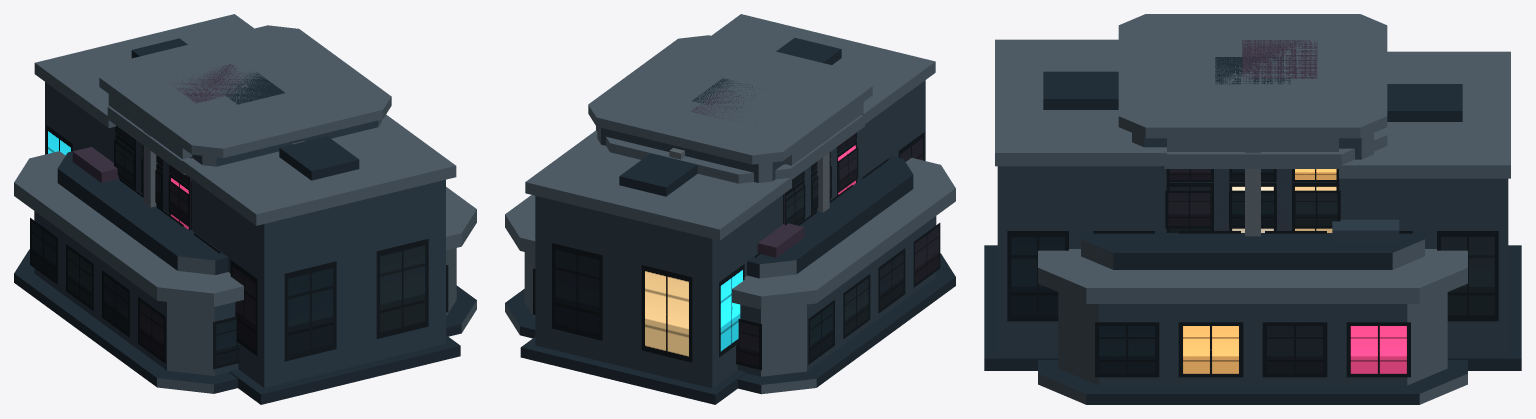
File: cyber-city-original.glb
The picture shows the model from 3 angles, left to right: view 1: azimuth 30°, elevation 25°; view 2: azimuth 150°, elevation 25°; view 3: azimuth 270°, elevation 25°; orthographic projection. The views are drawn at different scales.
Visible parts, largest first — view 1: terrace, podium, tower_walls, slim_walls, corner, midrise_walls, tower_walls.001, midrise_walls.001; view 2: terrace, podium, tower_walls, corner, midrise_walls, tower_walls.001, midrise_walls.001, slim_walls; view 3: terrace, podium, tower_walls, corner, slim_walls, midrise_walls, midrise_walls.001, tower_walls.001.
Boxes of the visible parts, bbox=[...] form: terrace: bbox=[34, 14, 460, 404]; podium: bbox=[14, 147, 476, 393]; tower_walls: bbox=[99, 25, 391, 192]; slim_walls: bbox=[147, 45, 343, 128]; corner: bbox=[107, 64, 248, 226]; midrise_walls: bbox=[115, 119, 381, 229]; tower_walls.001: bbox=[143, 131, 304, 226]; midrise_walls.001: bbox=[115, 134, 189, 230]; terrace: bbox=[520, 14, 935, 404]; podium: bbox=[505, 156, 955, 394]; tower_walls: bbox=[588, 35, 872, 213]; corner: bbox=[596, 89, 864, 225]; midrise_walls: bbox=[597, 127, 856, 224]; tower_walls.001: bbox=[669, 138, 829, 223]; midrise_walls.001: bbox=[784, 141, 856, 225]; slim_walls: bbox=[643, 55, 826, 132]; terrace: bbox=[984, 39, 1521, 370]; podium: bbox=[1038, 219, 1467, 404]; tower_walls: bbox=[1118, 14, 1387, 182]; corner: bbox=[1159, 40, 1387, 230]; slim_walls: bbox=[1159, 31, 1346, 109]; midrise_walls: bbox=[1132, 133, 1373, 231]; midrise_walls.001: bbox=[1166, 182, 1339, 232]; tower_walls.001: bbox=[1245, 152, 1260, 236].
Size of the model in its own units: 1.6 by 1 by 2.
Materials: 2 (1 with a texture image).
